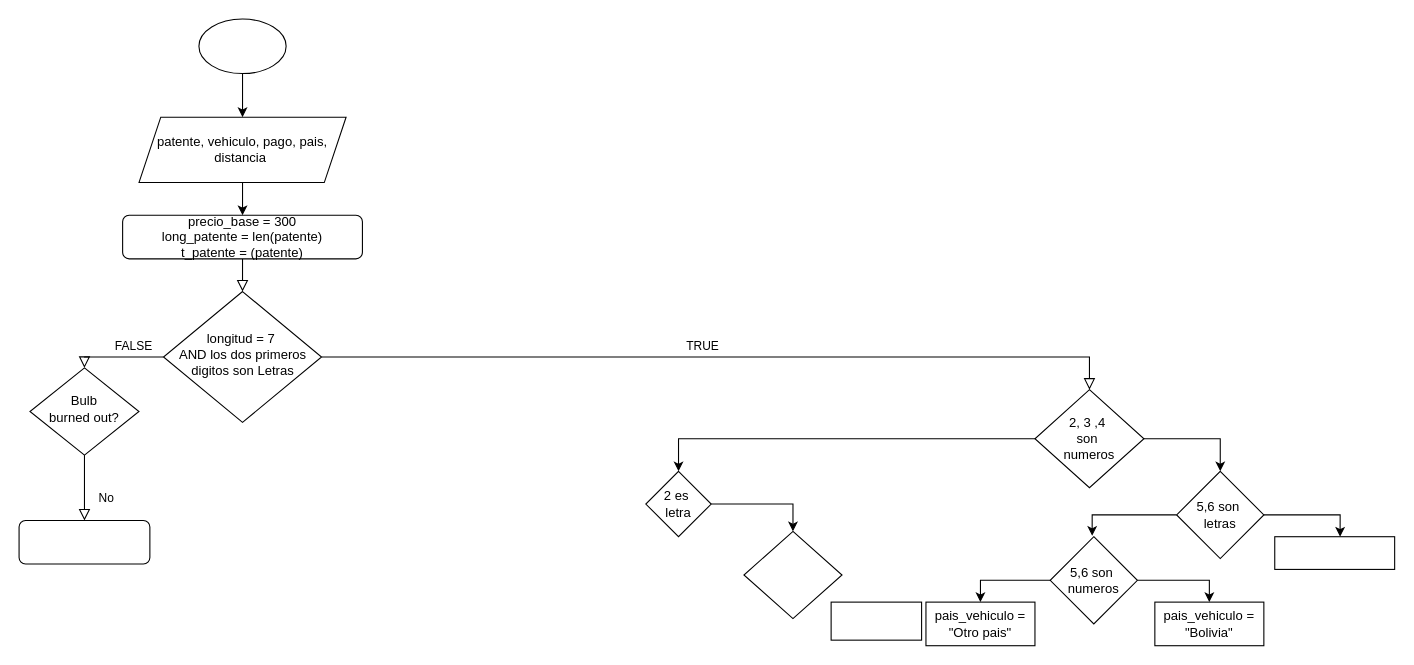
Some shapes in this 1414 by 665 pixel diagram are drawn without their labels. Here are the shapes that lost their labels. From the top down, the centre of each, then its label:
pixel 242 46: Inicio
pixel 84 541: Repair Lamp
pixel 1334 552: pais_vehiculo = "Argentina"
pixel 792 574: 3,4,5,6 son numeros
pixel 876 620: pais_vehiculo = "Uruguay"
